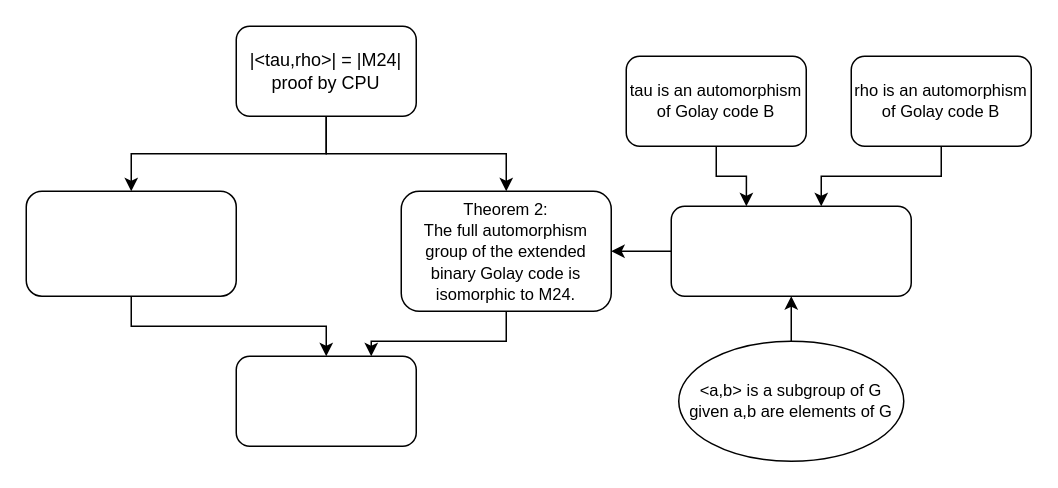
Some shapes in this 1058 by 488 pixel diagram are drawn without their labels. The centre of each missing label's shape, as x and y in pixels:
"<tau, rho> =~ M24" goes at (x=325, y=400).
"<tau,rho> is a subgroup of Aut(G), G is the Golay code" goes at (x=790, y=250).
"Lemma 1: The only simple group of order 244, 823, 040 is the Mathieu group M24." goes at (x=130, y=243).
